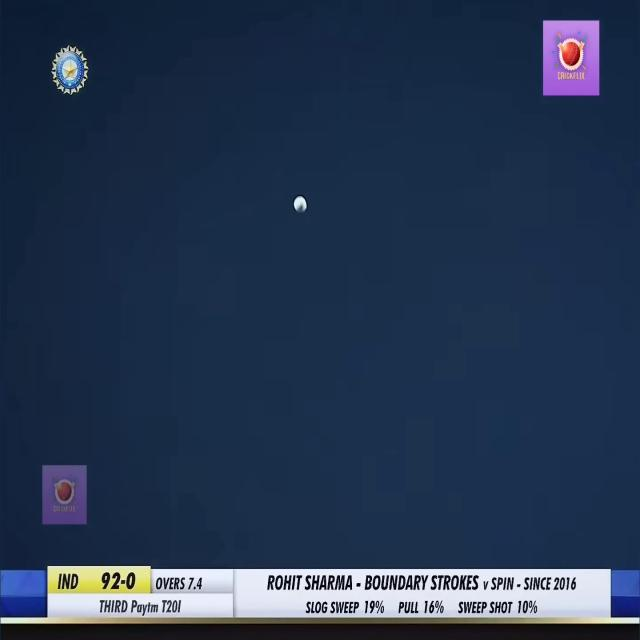fully_visible: (129, 594, 161, 618)
